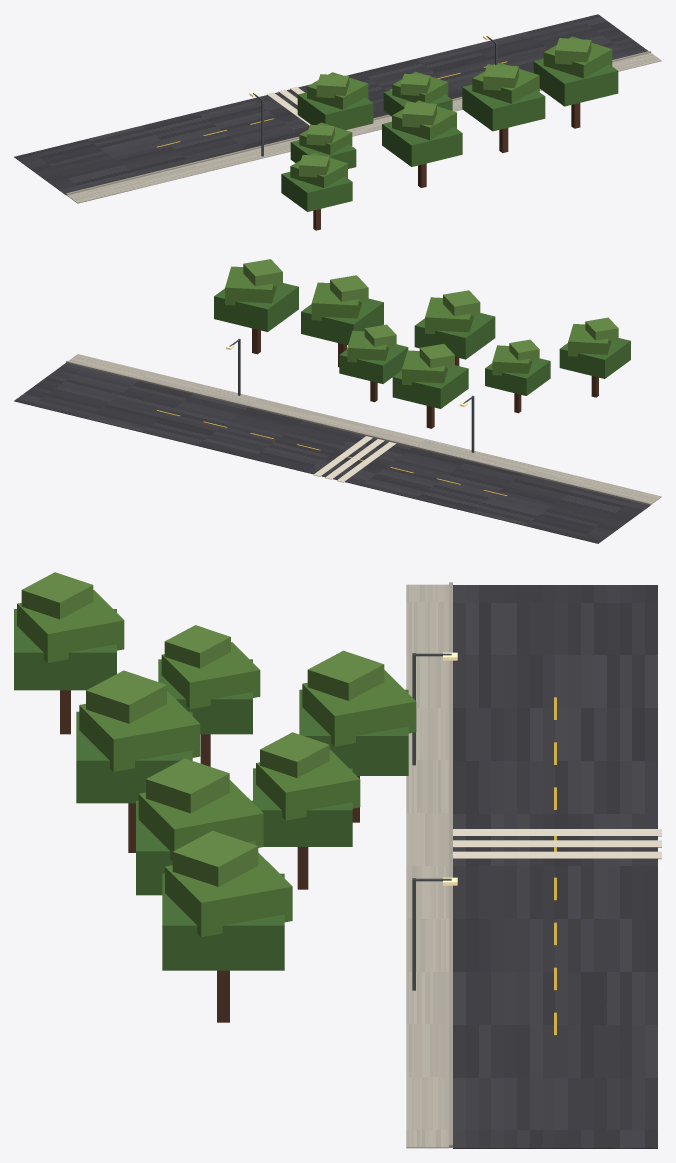
File: structure.glb
3 views of the same model, one above another, from view 1: azimuth 30°, elevation 25°; view 2: azimuth 150°, elevation 25°; view 3: azimuth 270°, elevation 25° (orthographic). The views are drawn at different scales.
Visible parts, largest first — view 1: Box29, Box39, Box2, Box6, Box22, Box26, Box10, Box3, Box7, Box23, Box27, Box4 (+12 smaller); view 2: Box29, Box39, Box2, Box6, Box22, Box26, Box38, Box10, Box18, Box14, Box3, Box7 (+12 smaller); view 3: Box29, Box39, Box2, Box3, Box23, Box27, Box7, Box11, Box10, Box19, Box22, Box15 (+15 smaller).
Part boxes in pixels (left/top/right/bottom): Box29: left=14, top=14, right=648, bottom=194; Box39: left=67, top=53, right=661, bottom=203; Box2: left=533, top=59, right=618, bottom=106; Box6: left=462, top=84, right=545, bottom=131; Box22: left=382, top=121, right=462, bottom=166; Box26: left=297, top=92, right=373, bottom=130; Box10: left=281, top=172, right=352, bottom=211; Box3: left=543, top=36, right=612, bottom=78; Box7: left=472, top=62, right=539, bottom=103; Box23: left=392, top=100, right=456, bottom=140; Box27: left=307, top=72, right=368, bottom=109; Box4: left=555, top=38, right=591, bottom=64; Box29: left=14, top=363, right=650, bottom=543; Box39: left=68, top=354, right=661, bottom=504; Box2: left=214, top=283, right=298, bottom=331; Box6: left=301, top=298, right=383, bottom=345; Box22: left=414, top=313, right=495, bottom=359; Box26: left=392, top=365, right=468, bottom=408; Box38: left=66, top=361, right=651, bottom=505; Box10: left=559, top=338, right=630, bottom=378; Box18: left=339, top=344, right=408, bottom=383; Box14: left=485, top=358, right=550, bottom=395; Box3: left=225, top=266, right=276, bottom=305; Box7: left=311, top=282, right=362, bottom=320; Box29: left=453, top=585, right=657, bottom=1148; Box39: left=406, top=584, right=448, bottom=1148; Box2: left=162, top=873, right=284, bottom=970; Box3: left=165, top=853, right=292, bottom=937; Box23: left=79, top=691, right=200, bottom=771; Box27: left=302, top=670, right=416, bottom=746; Box7: left=138, top=780, right=263, bottom=860; Box11: left=17, top=590, right=124, bottom=662; Box10: left=14, top=609, right=116, bottom=690; Box19: left=256, top=749, right=360, bottom=820; Box22: left=76, top=711, right=192, bottom=803; Box15: left=161, top=642, right=260, bottom=709.
Bounding box in the file's own units: 50 × 6.95 × 24.33.
11 materials, 2 textured.
